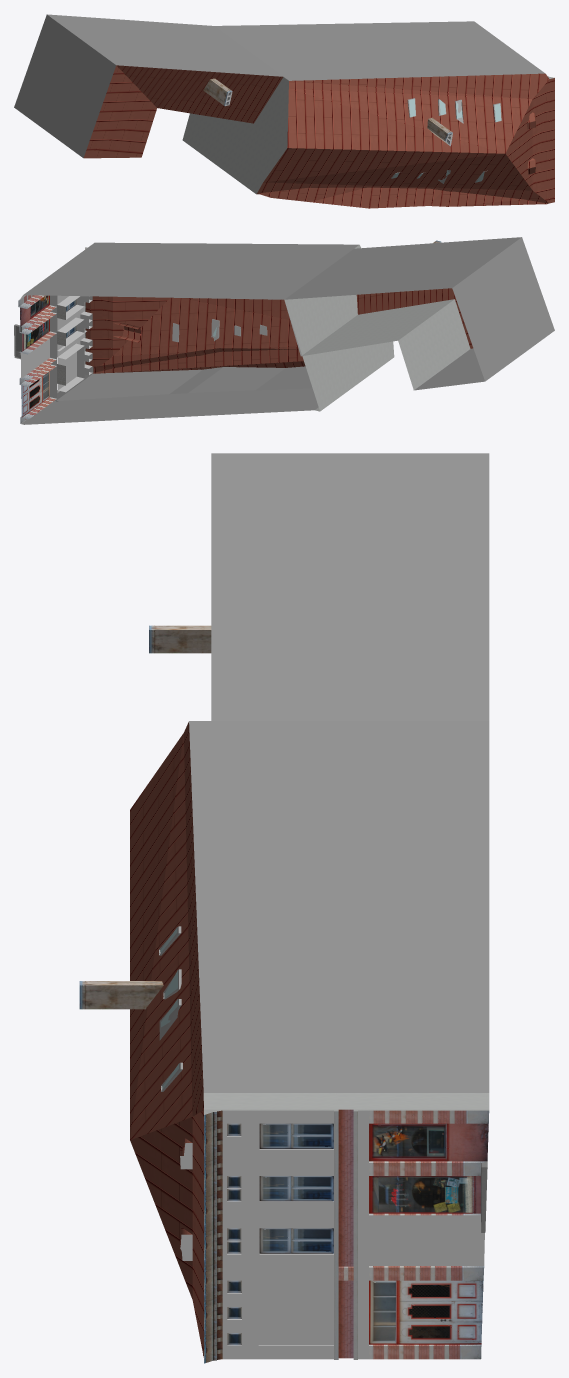
Rendered from Suur-Karja_6-origo.obj.
The picture shows the model from 3 angles, top to bottom: view 1: azimuth 30°, elevation 25°; view 2: azimuth 150°, elevation 25°; view 3: azimuth 270°, elevation 25°; orthographic projection. The views are drawn at different scales.
Parts seen in each view (by area): view 1: suur_karja6, xxx; view 2: xxx, suur_karja6; view 3: xxx, suur_karja6.
Part boxes in pixels (<box>): suur_karja6: <box>83,65,554,208</box>; xxx: <box>14,14,545,157</box>; xxx: <box>20,237,554,424</box>; suur_karja6: <box>14,240,473,423</box>; xxx: <box>189,453,489,1359</box>; suur_karja6: <box>79,625,489,1363</box>.
Size of the model in its own units: 37.56 by 18.5 by 14.18.
